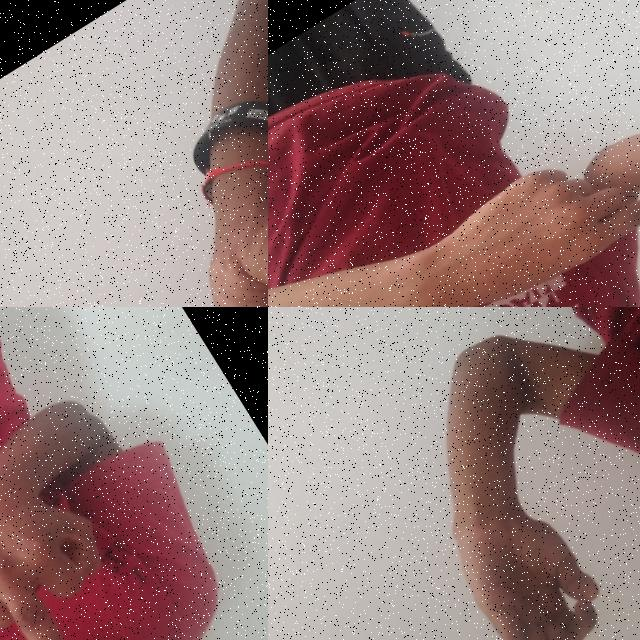Corna: (143, 115, 268, 307)
Five Fathers: (384, 34, 640, 307)
Middle Finger: (0, 428, 162, 640)
Okay: (411, 449, 640, 640)
